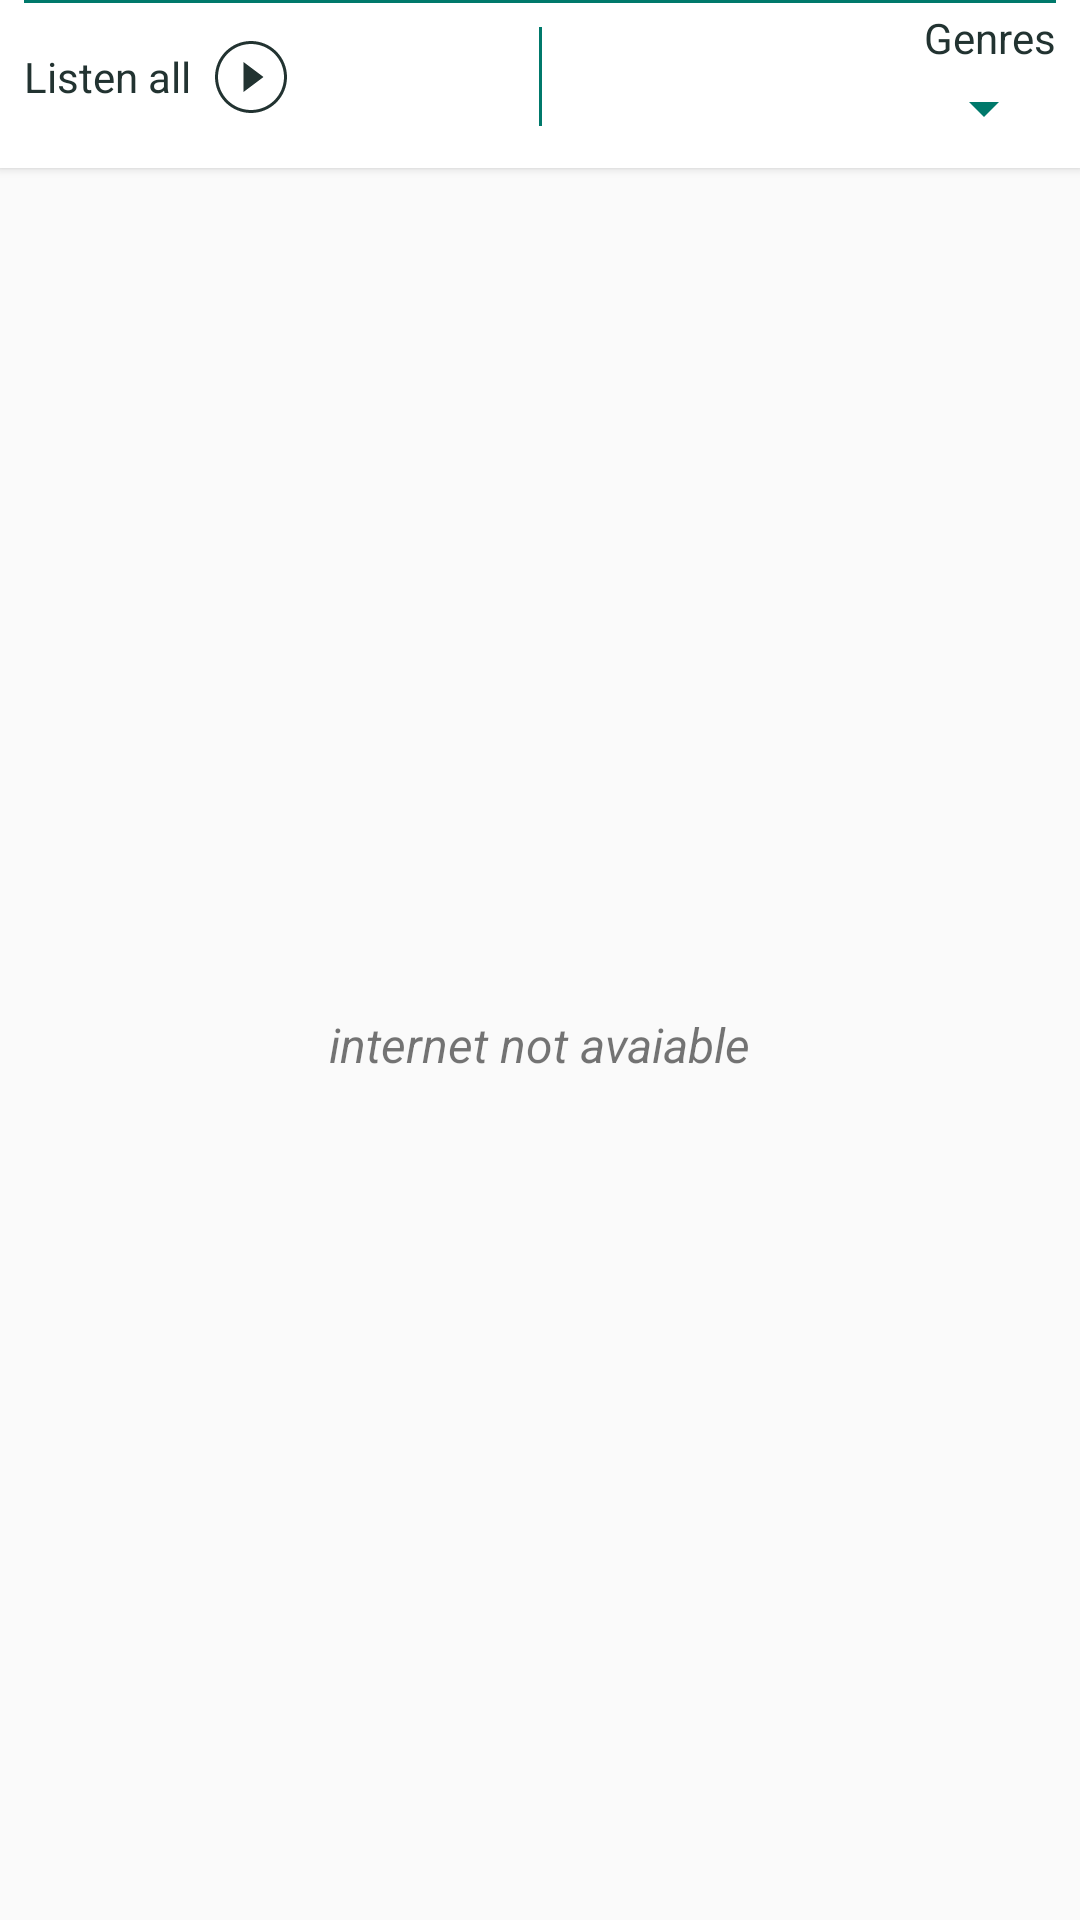

Locate icon controls on the screen. Image size 1080*1920, boxes as (x1, y1, x2, y2).
play: (215, 41, 287, 113)
